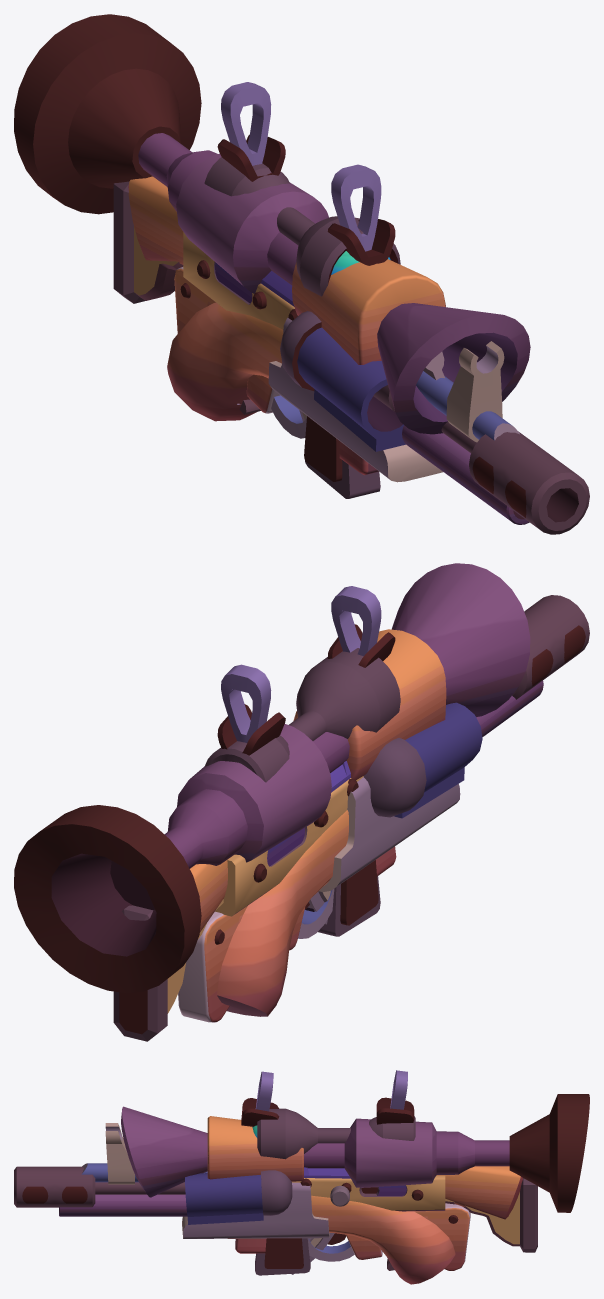
Rendered from Guns.fbx.
The picture shows the model from 3 angles, top to bottom: view 1: azimuth 30°, elevation 25°; view 2: azimuth 150°, elevation 25°; view 3: azimuth 270°, elevation 25°; orthographic projection. The views are drawn at different scales.
Visible parts, largest first — view 1: RocketLauncher_mesh, Rifle03_mesh, SawedOffShotgun_mesh, Rifle02_mesh, Shotgun01_mesh; view 2: RocketLauncher_mesh, SawedOffShotgun_mesh, Rifle03_mesh, Shotgun01_mesh, Rifle02_mesh; view 3: RocketLauncher_mesh, SawedOffShotgun_mesh, Rifle03_mesh, Rifle02_mesh, Shotgun01_mesh.
Part boxes in pixels (x1,y1,x2,y2): RocketLauncher_mesh: (14, 14, 530, 475); Rifle03_mesh: (113, 157, 589, 534); SawedOffShotgun_mesh: (167, 302, 442, 482); Rifle02_mesh: (128, 176, 519, 442); Shotgun01_mesh: (174, 267, 529, 524); RocketLauncher_mesh: (14, 563, 530, 993); SawedOffShotgun_mesh: (217, 702, 482, 1016); Rifle03_mesh: (113, 595, 589, 1041); Shotgun01_mesh: (178, 680, 543, 1022); Rifle02_mesh: (190, 761, 358, 932); RocketLauncher_mesh: (121, 1070, 589, 1253); SawedOffShotgun_mesh: (182, 1170, 455, 1284); Rifle03_mesh: (14, 1108, 537, 1275); Rifle02_mesh: (81, 1123, 522, 1274); Shotgun01_mesh: (59, 1194, 470, 1270).
Bounding box in the file's own units: 0.2471 × 0.4693 × 1.18.
